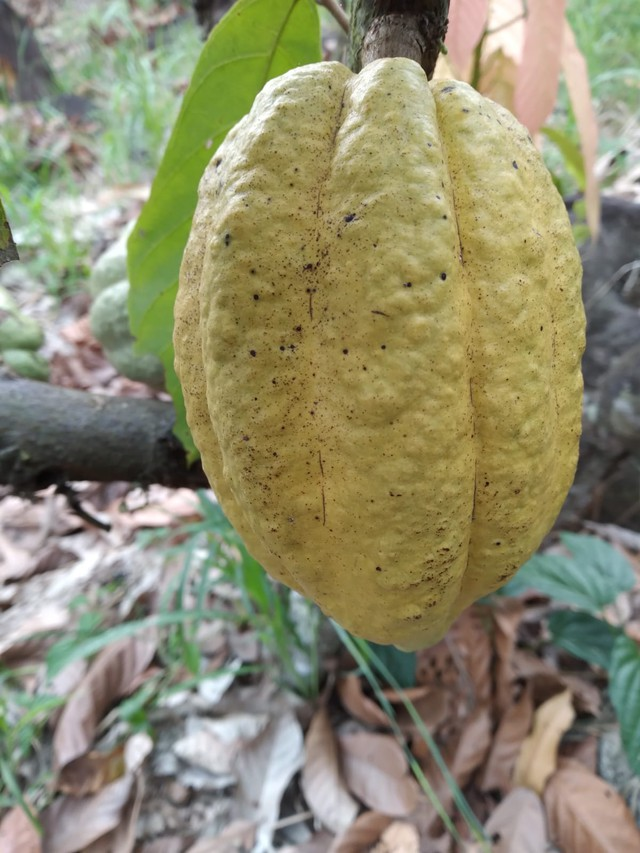Health: (166, 52, 595, 654)
